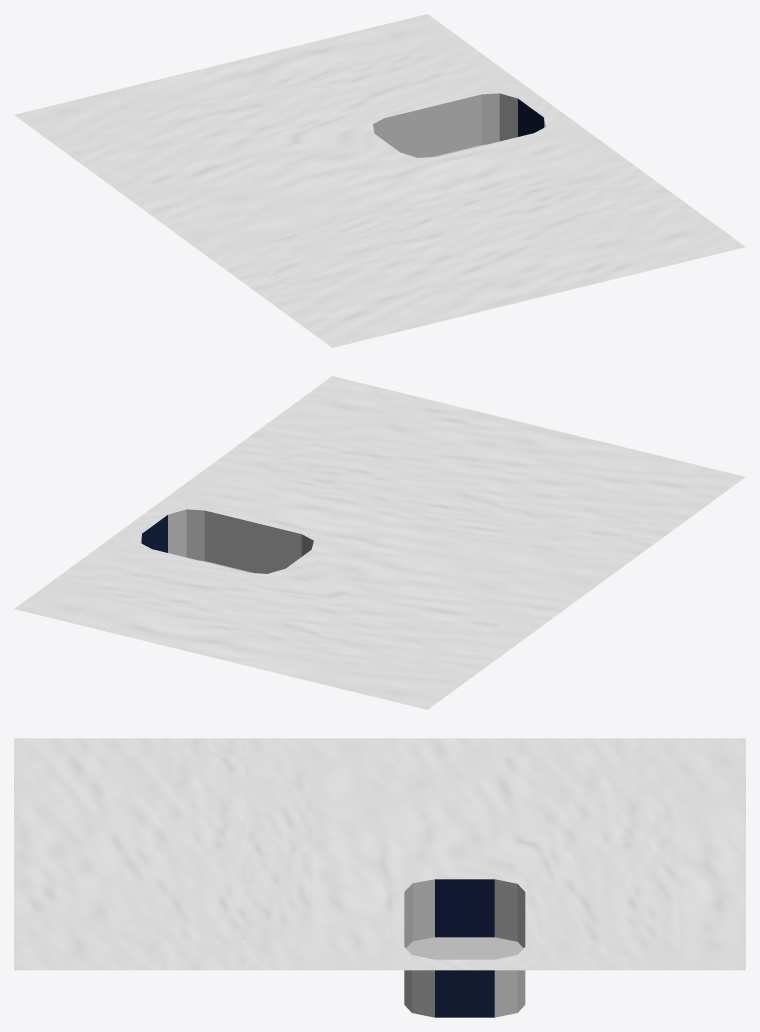
File: hole03.FBX
3 renders of one model, top to bottom at view 1: azimuth 30°, elevation 25°; view 2: azimuth 150°, elevation 25°; view 3: azimuth 270°, elevation 25°, orthographic. The views are drawn at different scales.
Parts seen in each view (by area): view 1: modelRoad063; view 2: modelRoad063; view 3: modelRoad063.
Part boxes in pixels (<box>): modelRoad063: <box>14,14,745,347</box>; modelRoad063: <box>14,376,745,709</box>; modelRoad063: <box>14,738,745,1017</box>.
Size of the model in its own units: 600 by 70 by 800.
